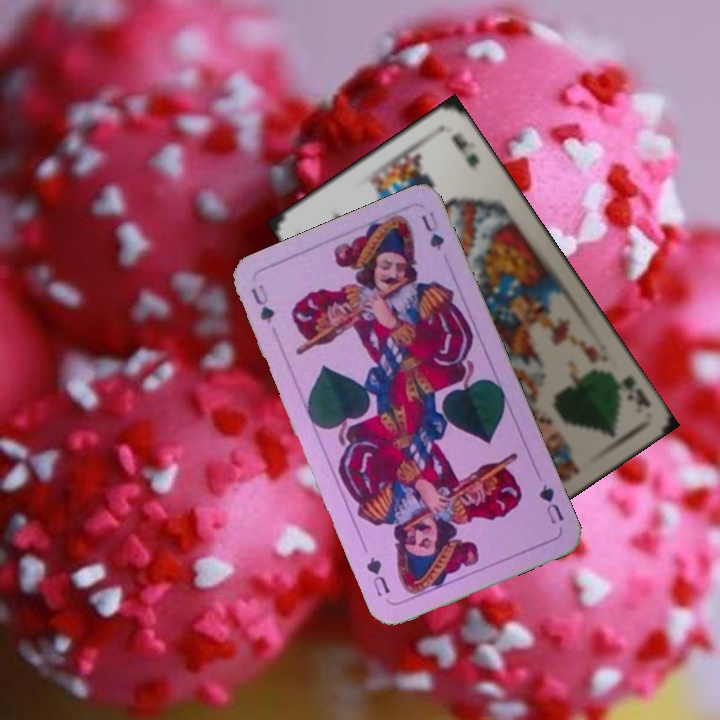GK: (607, 368, 654, 411)
GU: (534, 480, 567, 527), (246, 280, 277, 326)
